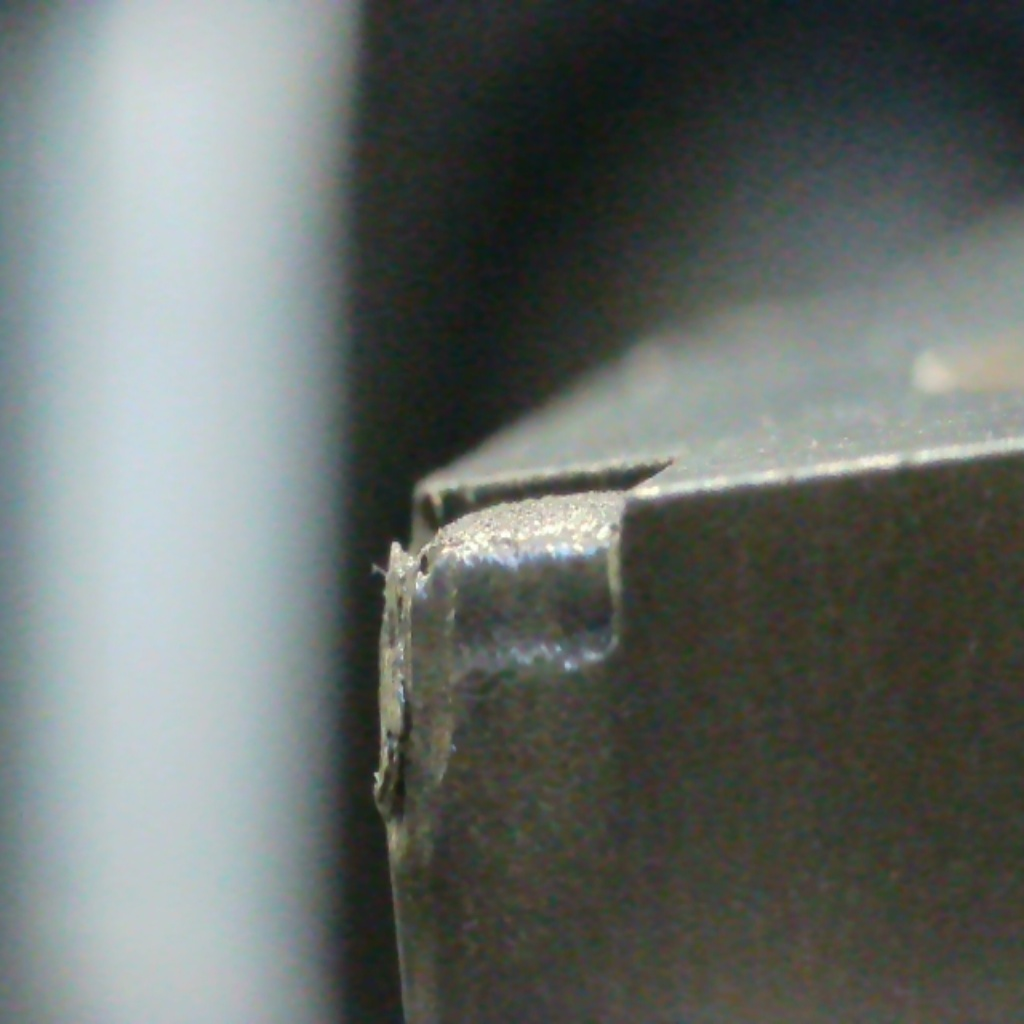flank_wear: (366, 542, 453, 839), (440, 579, 626, 666)
